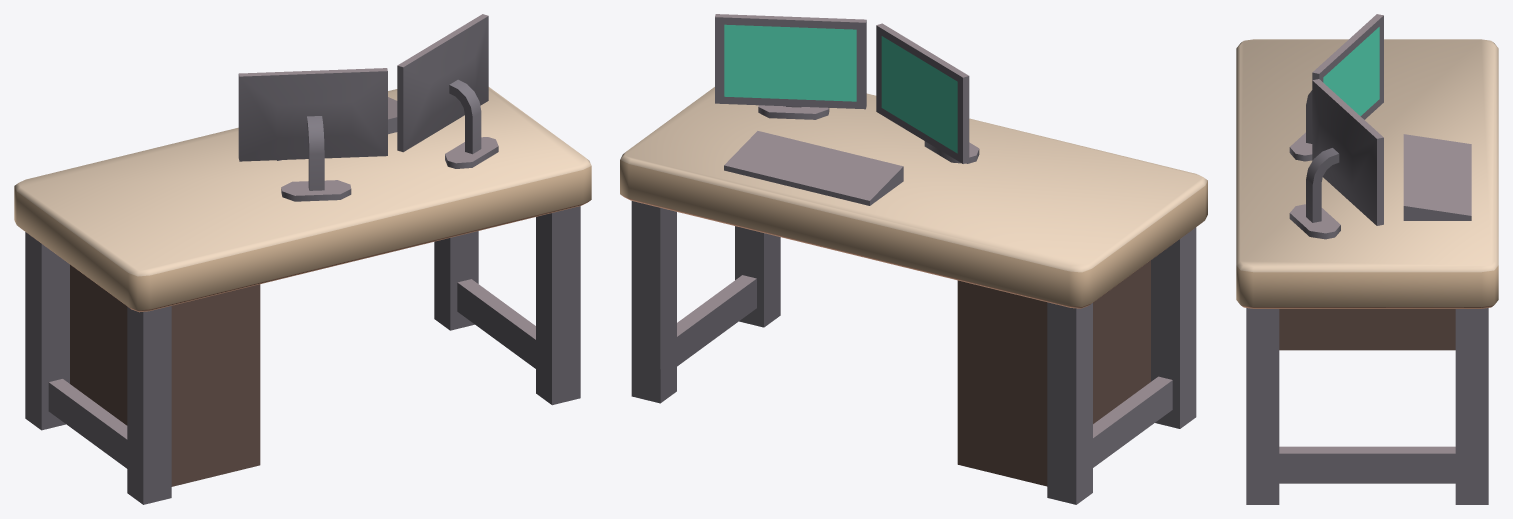
Rendered from Desk.fbx.
The picture shows the model from 3 angles, left to right: view 1: azimuth 30°, elevation 25°; view 2: azimuth 150°, elevation 25°; view 3: azimuth 270°, elevation 25°; orthographic projection. The views are drawn at different scales.
Visible parts, largest first — view 1: Desk; view 2: Desk; view 3: Desk.
Part boxes in pixels (box(x1,y1,x2,y2)): Desk: box(14, 14, 591, 504); Desk: box(620, 14, 1207, 504); Desk: box(1236, 14, 1498, 504).
Size of the model in its own units: 101 by 71.99 by 48.62.
